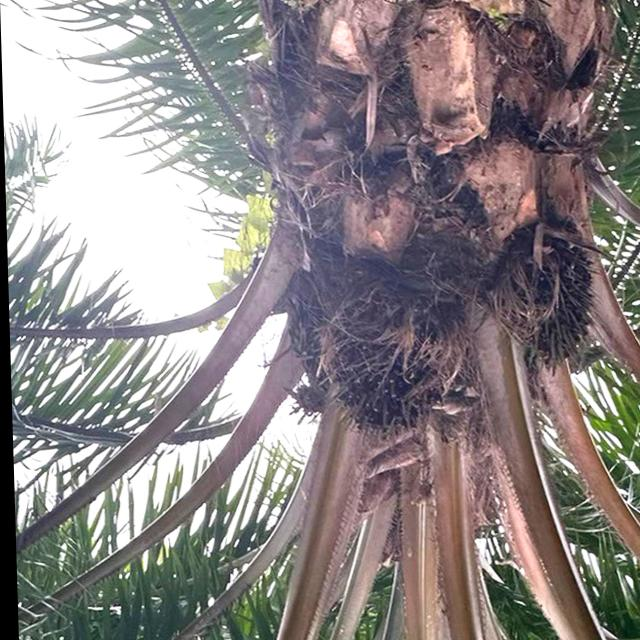ripe: (278, 279, 462, 441), (483, 215, 611, 382)
